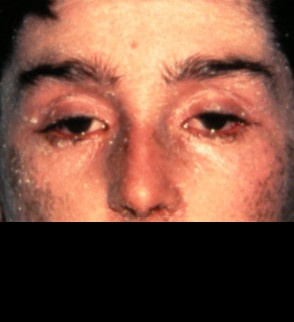SJS-TEN: (0, 0, 294, 225)
